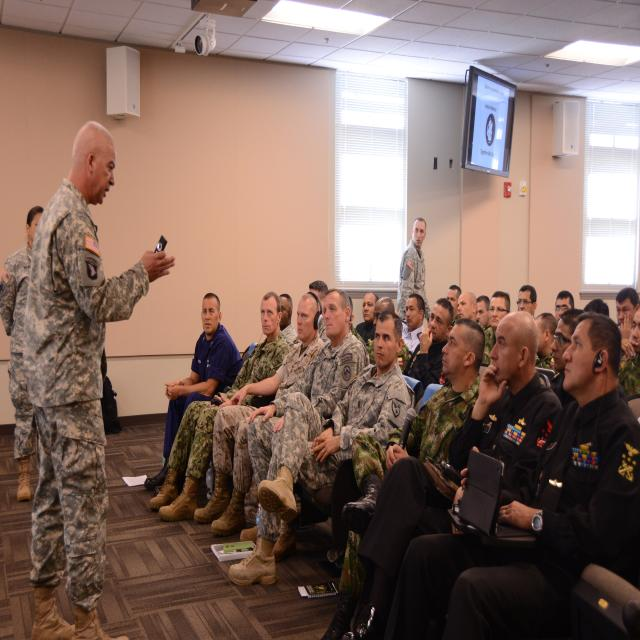body: (21, 117, 179, 640), (340, 309, 564, 640), (432, 310, 640, 640), (319, 316, 486, 640), (228, 310, 415, 586), (238, 287, 371, 560), (148, 290, 291, 523), (193, 291, 325, 533), (143, 293, 244, 497), (0, 204, 48, 503), (531, 289, 607, 366), (402, 297, 455, 392), (396, 216, 433, 326), (549, 308, 589, 409), (367, 296, 410, 375), (480, 290, 513, 364), (617, 308, 640, 398), (400, 293, 425, 354), (354, 291, 380, 348), (614, 286, 639, 344), (308, 280, 331, 342), (349, 294, 368, 354), (278, 292, 297, 346), (516, 284, 537, 322), (456, 290, 478, 324), (447, 284, 462, 321), (475, 294, 491, 325)
